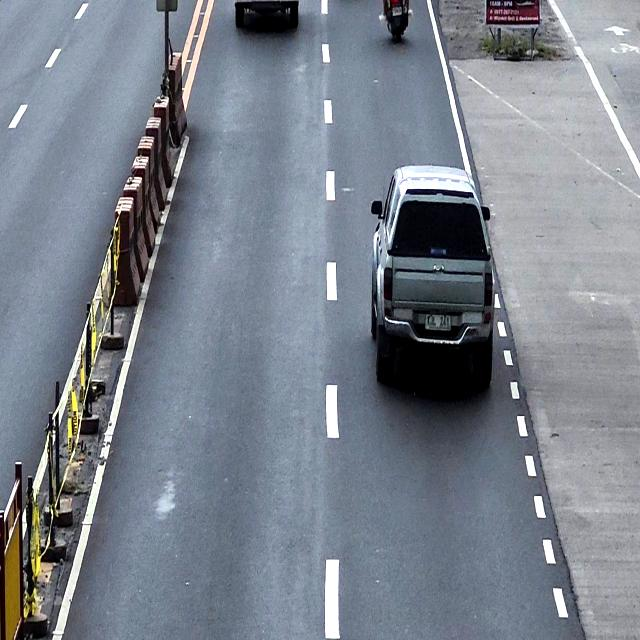Car: (370, 164, 495, 388), (234, 0, 300, 29)
License-Plate: (424, 312, 452, 332), (391, 7, 403, 16)
Motorcycle: (382, 0, 413, 42)
